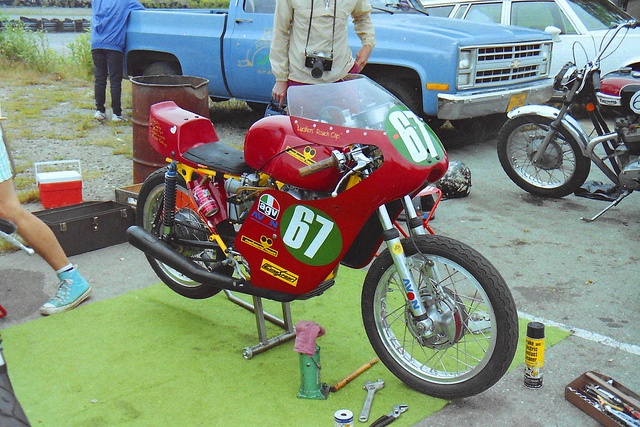non-vehicle: (128, 72, 522, 402), (495, 18, 639, 228)
